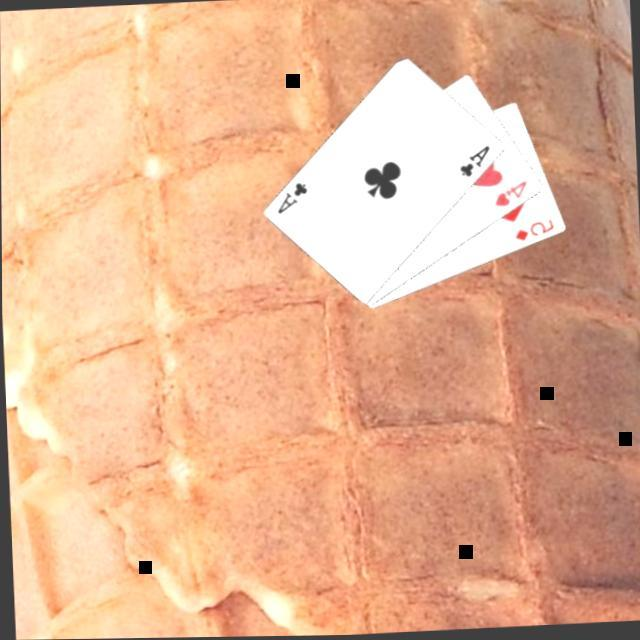4H: (489, 180, 530, 213)
5D: (510, 219, 556, 248)
AC: (271, 180, 310, 220), (454, 144, 493, 183)
